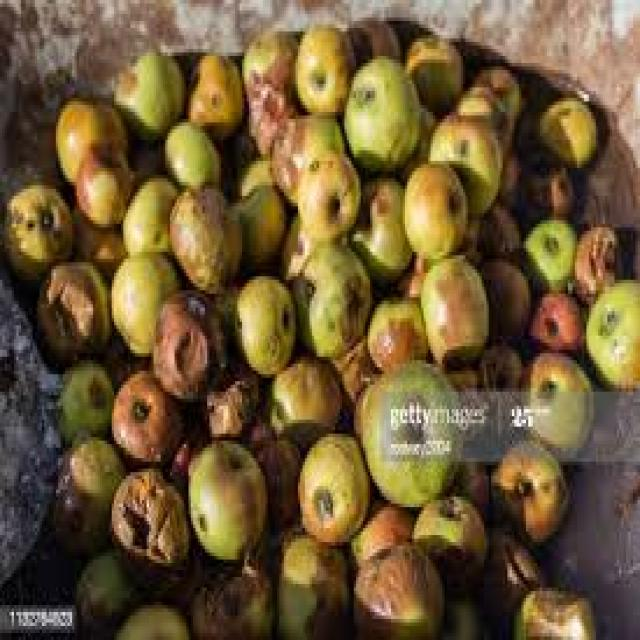organic waste: (359, 357, 456, 507), (110, 465, 188, 595), (186, 437, 263, 556), (512, 350, 591, 465), (339, 49, 416, 164), (275, 518, 349, 636), (291, 241, 370, 350), (352, 538, 438, 636), (293, 430, 368, 542), (151, 287, 228, 395), (216, 269, 294, 374), (51, 434, 121, 549), (344, 171, 412, 287), (489, 441, 568, 538), (168, 185, 238, 294), (419, 248, 484, 364), (35, 256, 107, 360), (109, 367, 184, 465), (426, 108, 498, 210), (186, 552, 272, 636), (268, 102, 340, 200), (410, 493, 484, 588), (110, 42, 182, 136), (51, 94, 126, 182), (263, 353, 337, 441), (109, 255, 177, 350), (582, 272, 638, 384), (402, 157, 466, 255), (244, 412, 300, 524), (2, 182, 68, 276), (474, 524, 538, 616), (72, 542, 137, 630), (296, 147, 358, 234), (291, 24, 351, 109), (119, 168, 177, 252), (232, 182, 288, 266), (346, 497, 409, 570), (475, 256, 528, 340), (528, 94, 594, 161), (72, 143, 126, 224), (454, 433, 505, 518), (184, 49, 240, 126), (510, 584, 591, 637), (160, 115, 218, 189), (365, 294, 426, 364), (54, 364, 112, 437), (244, 70, 294, 154), (405, 31, 461, 105), (570, 220, 619, 304), (516, 217, 572, 290), (326, 328, 377, 406), (202, 357, 256, 430), (70, 199, 123, 273), (512, 154, 573, 217), (521, 294, 582, 353), (454, 80, 507, 147), (107, 594, 189, 636), (242, 24, 293, 91), (475, 59, 519, 119), (477, 199, 519, 259), (438, 588, 487, 636), (344, 14, 396, 59), (477, 343, 521, 395), (224, 150, 272, 189), (444, 356, 480, 398), (393, 252, 426, 297), (496, 143, 514, 196), (465, 213, 482, 256)
